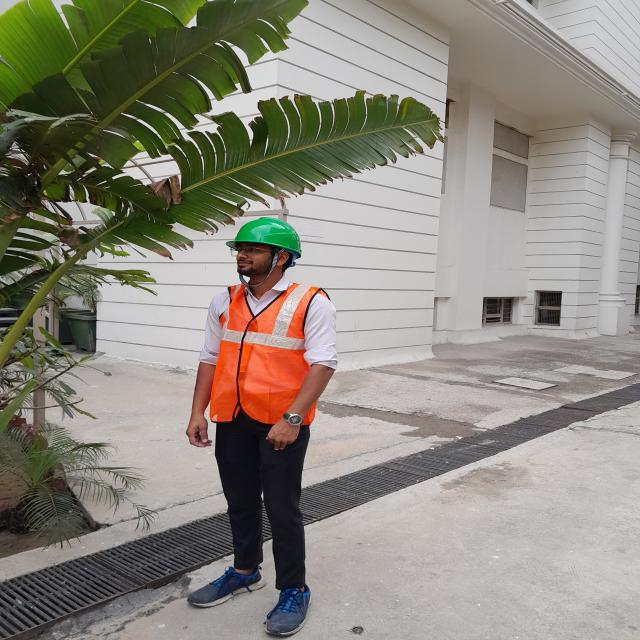safe: (187, 217, 339, 636)
